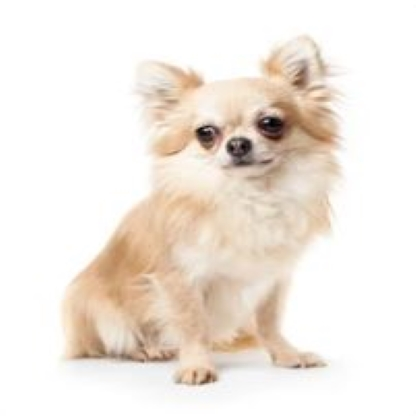chihuahua: (60, 30, 346, 387)
